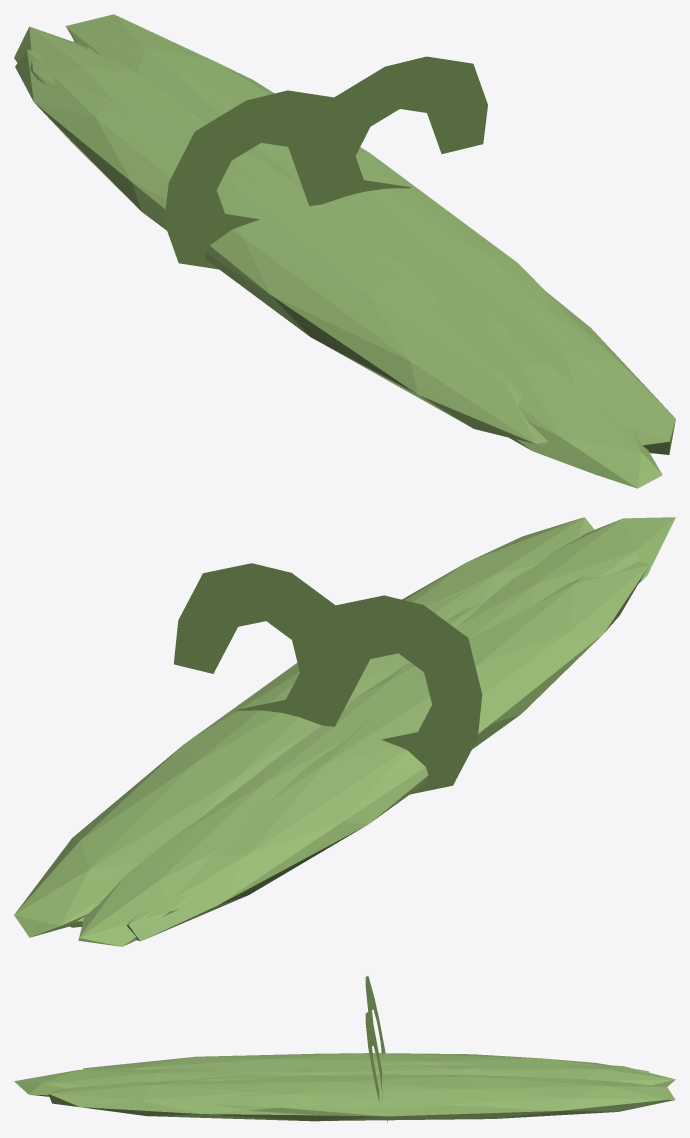
The model's file is tectaria-dissecta.glb.
The picture shows the model from 3 angles, top to bottom: view 1: azimuth 30°, elevation 25°; view 2: azimuth 150°, elevation 25°; view 3: azimuth 270°, elevation 25°; orthographic projection. The views are drawn at different scales.
Visible parts, largest first — view 1: frond3, frond0, fiddle1, fiddle-1, frond4, frond2, frond1, frond6; view 2: frond3, frond0, fiddle1, frond4, fiddle-1, frond2, frond1, frond6; view 3: frond0, frond1, frond3, frond4, frond2, fiddle-1, fiddle1, frond6.
Part boxes in pixels (x1,y1,x2,y2): frond3: (15,49,548,446); frond0: (66,14,568,335); fiddle1: (303,56,487,205); fiddle-1: (164,90,348,269); frond4: (14,26,440,309); frond2: (429,289,662,488); frond1: (492,274,675,454); frond6: (73,40,511,338); frond3: (126,561,649,941); frond0: (14,591,467,937); fiddle1: (173,563,349,726); frond4: (78,662,418,946); fiddle-1: (328,595,482,794); frond2: (455,517,675,639); frond1: (402,517,594,618); frond6: (70,602,483,927); frond0: (183,1075,675,1120); frond1: (48,1080,358,1121); frond3: (83,1053,649,1072); frond4: (238,1063,675,1086); frond2: (14,1068,263,1096); fiddle-1: (365,976,385,1065); fiddle1: (365,1012,387,1122); frond6: (190,1074,633,1083).
Bounding box in the file's own units: 0.184 × 0.1056 × 0.6164.
